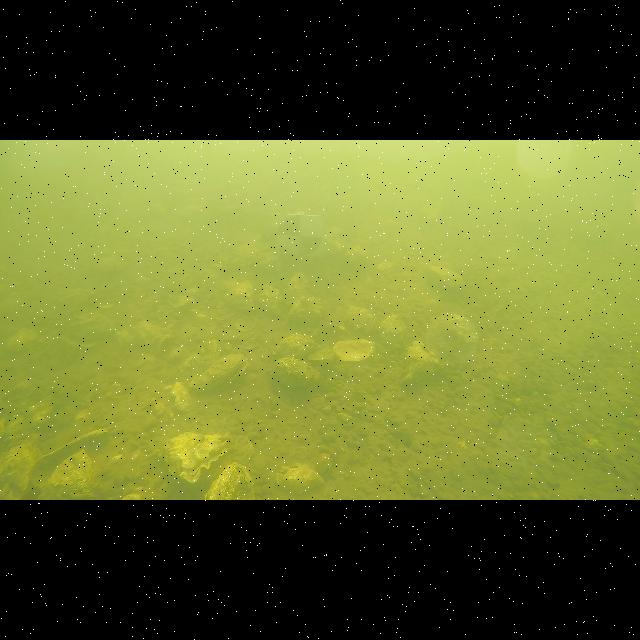Oyster-Closed: (164, 432, 230, 482), (47, 445, 106, 499), (0, 439, 44, 500), (186, 350, 248, 393), (176, 336, 223, 379), (426, 314, 479, 352), (116, 321, 174, 354), (205, 462, 255, 500), (402, 340, 441, 384), (69, 312, 116, 346), (276, 465, 324, 494), (274, 356, 320, 386), (274, 334, 318, 358), (289, 296, 322, 325), (346, 306, 380, 332), (225, 280, 254, 310), (284, 272, 310, 302), (259, 285, 281, 315)
Oyster-Open: (21, 429, 109, 500), (332, 339, 375, 361)
